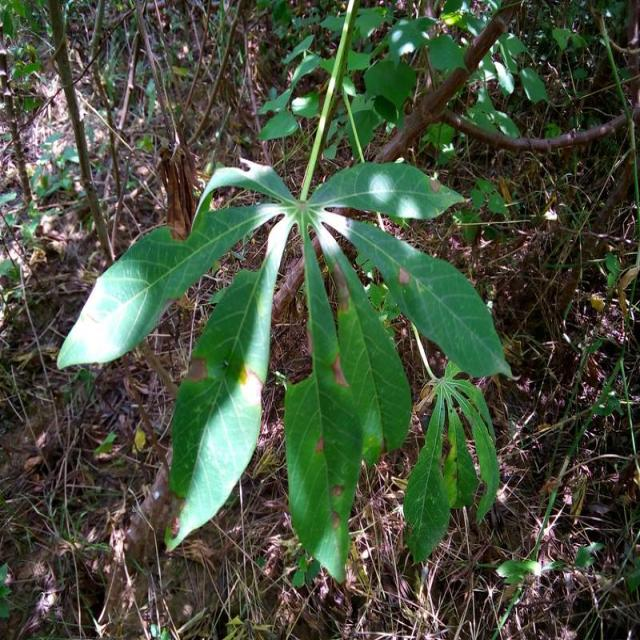cassava leaf: (56, 7, 516, 584), (55, 163, 294, 370), (162, 211, 293, 553), (342, 214, 514, 380)
